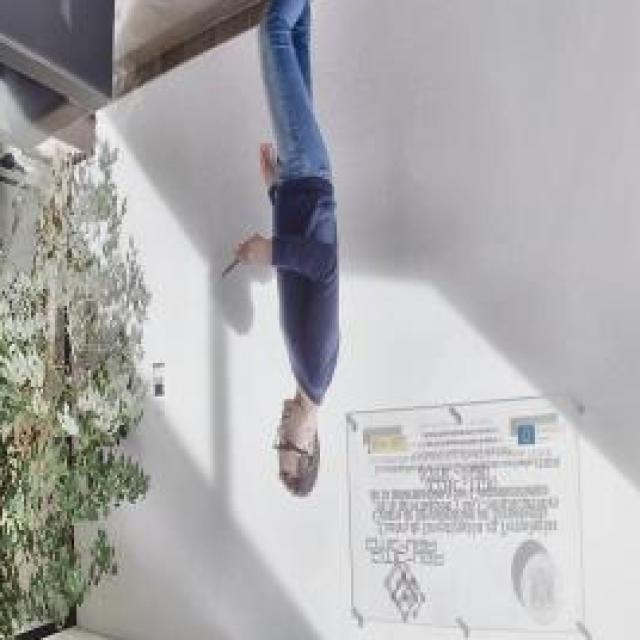knife: (217, 231, 259, 284)
